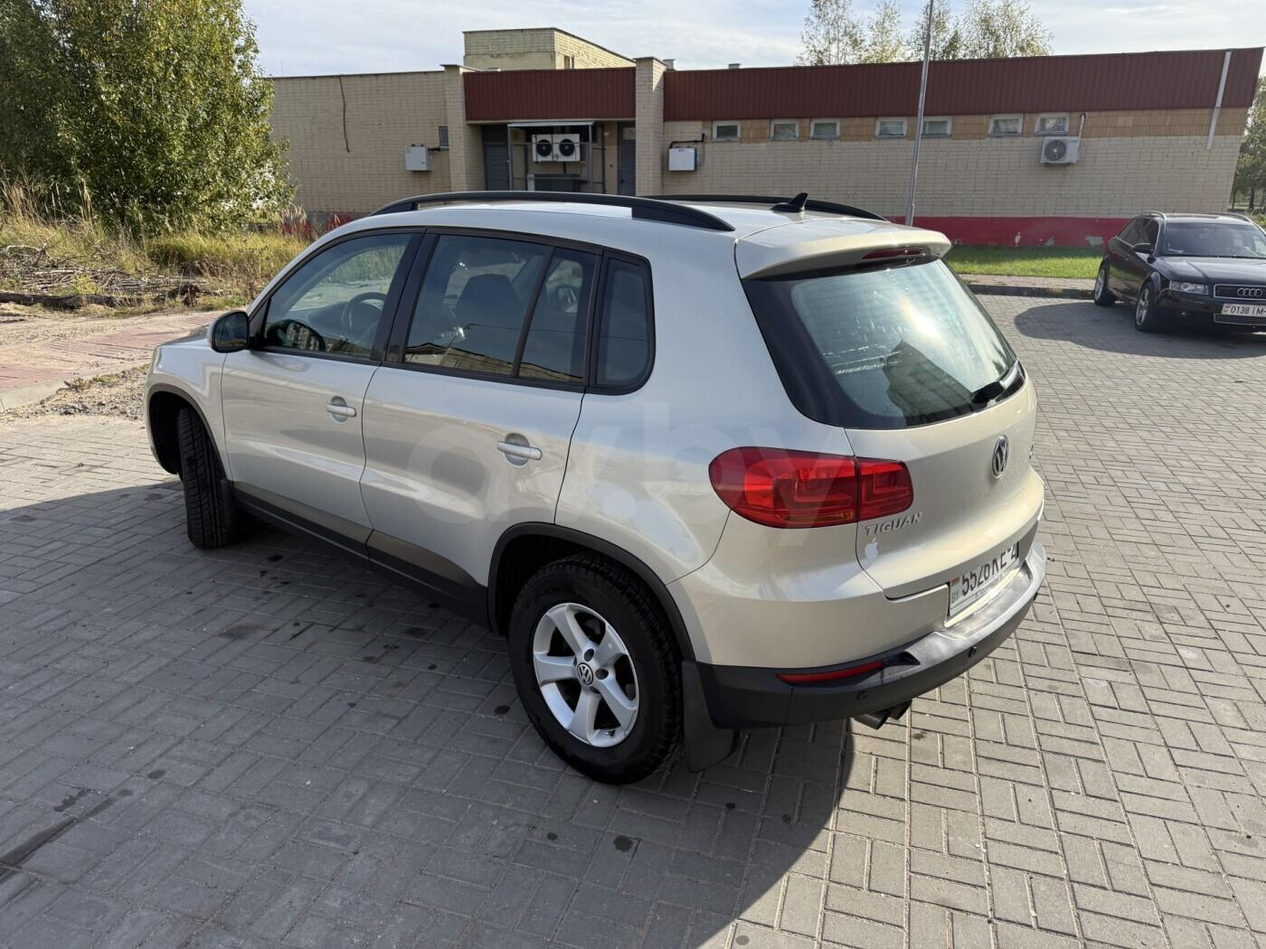Tiguan_2011-2018: (142, 192, 1054, 785)
